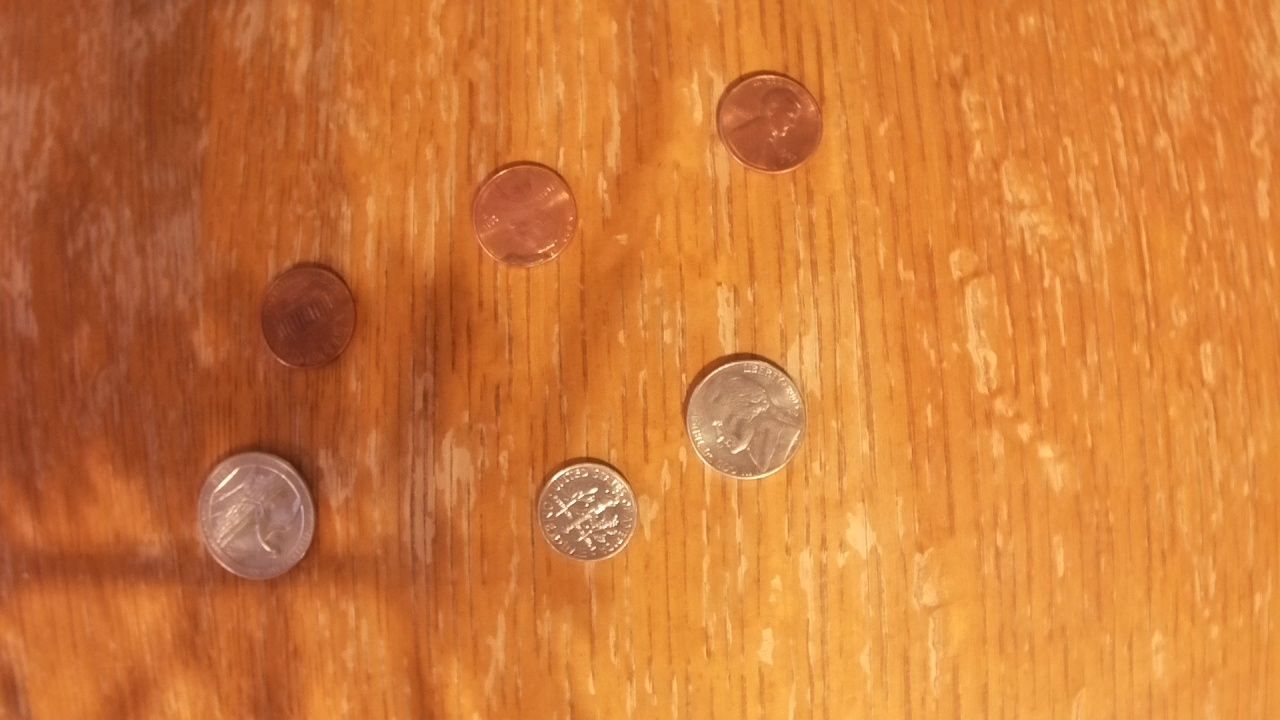dime: (534, 456, 640, 570)
nickel: (686, 352, 812, 484)
penny: (709, 68, 825, 178), (470, 158, 578, 268), (257, 259, 359, 373)
quarter: (193, 448, 323, 584)
